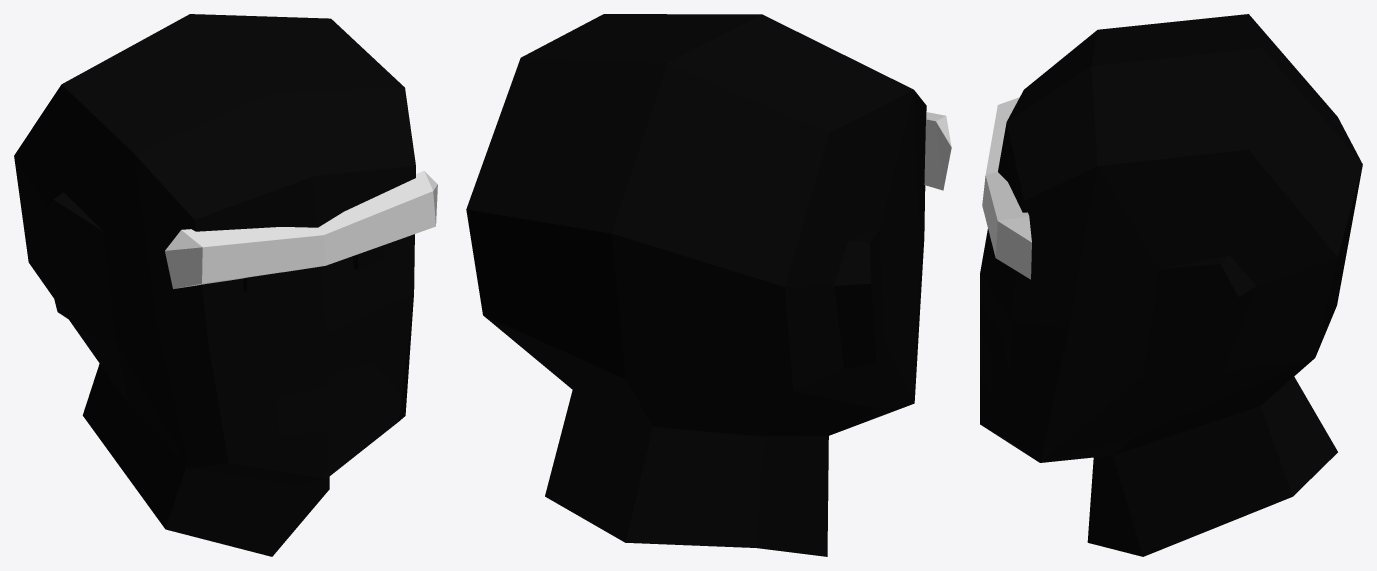
File: space_SM_Chr_Attach_EVA_Male_Head_Blank_01.gltf
The picture shows the model from 3 angles, left to right: view 1: azimuth 30°, elevation 25°; view 2: azimuth 150°, elevation 25°; view 3: azimuth 270°, elevation 25°; orthographic projection. The views are drawn at different scales.
Parts seen in each view (by area): view 1: SM_Chr_Attach_EVA_Male_Head_Blank_01; view 2: SM_Chr_Attach_EVA_Male_Head_Blank_01; view 3: SM_Chr_Attach_EVA_Male_Head_Blank_01.
Part boxes in pixels (left/top/right/bottom): SM_Chr_Attach_EVA_Male_Head_Blank_01: left=14, top=14, right=437, bottom=556; SM_Chr_Attach_EVA_Male_Head_Blank_01: left=466, top=14, right=951, bottom=556; SM_Chr_Attach_EVA_Male_Head_Blank_01: left=980, top=14, right=1362, bottom=556.
Bounding box in the file's own units: 0.2661 × 0.3678 × 0.2574.
Materials: 1 (1 with a texture image).
